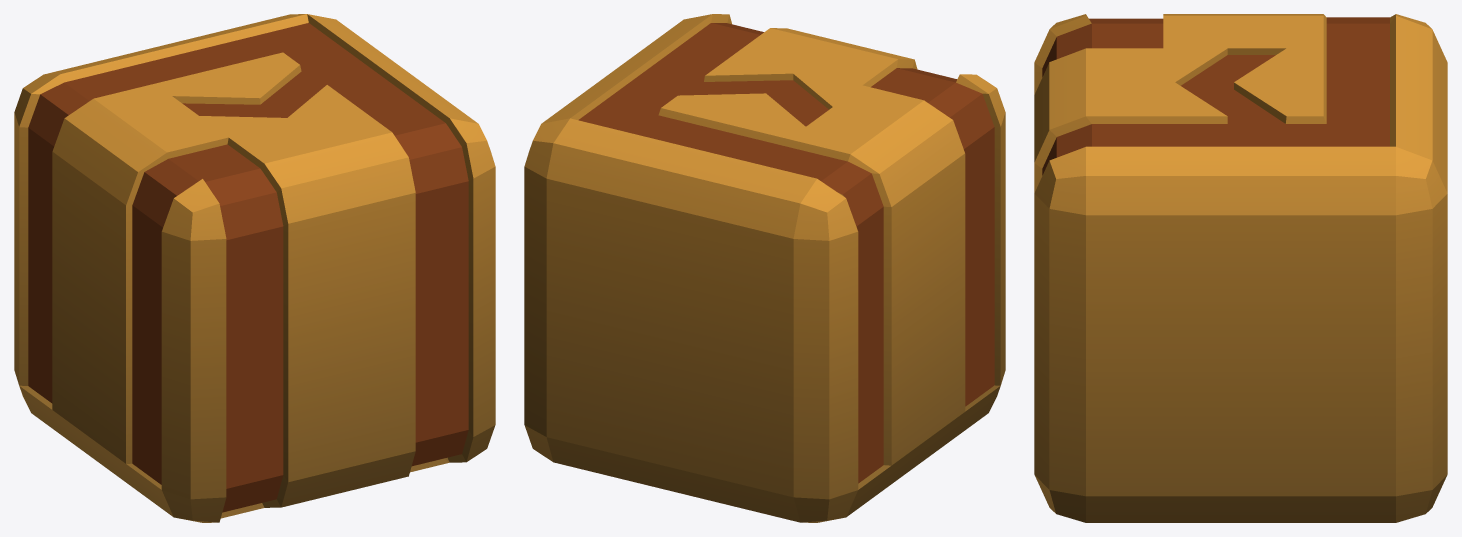
Rendered from Tile_JalurBuntutBelokEmas_1.fbx.
3 renders of one model, left to right at view 1: azimuth 30°, elevation 25°; view 2: azimuth 150°, elevation 25°; view 3: azimuth 270°, elevation 25°, orthographic. The views are drawn at different scales.
Visible parts, largest first — view 1: Jalur Ular Belok Emas; view 2: Jalur Ular Belok Emas; view 3: Jalur Ular Belok Emas.
Part boxes in pixels (box(x1,y1,x2,y2)): Jalur Ular Belok Emas: box(14, 14, 495, 522); Jalur Ular Belok Emas: box(524, 14, 1005, 522); Jalur Ular Belok Emas: box(1034, 14, 1447, 522).
Bounding box in the file's own units: 1 × 1 × 1.
Materials: 1 (1 with a texture image).
